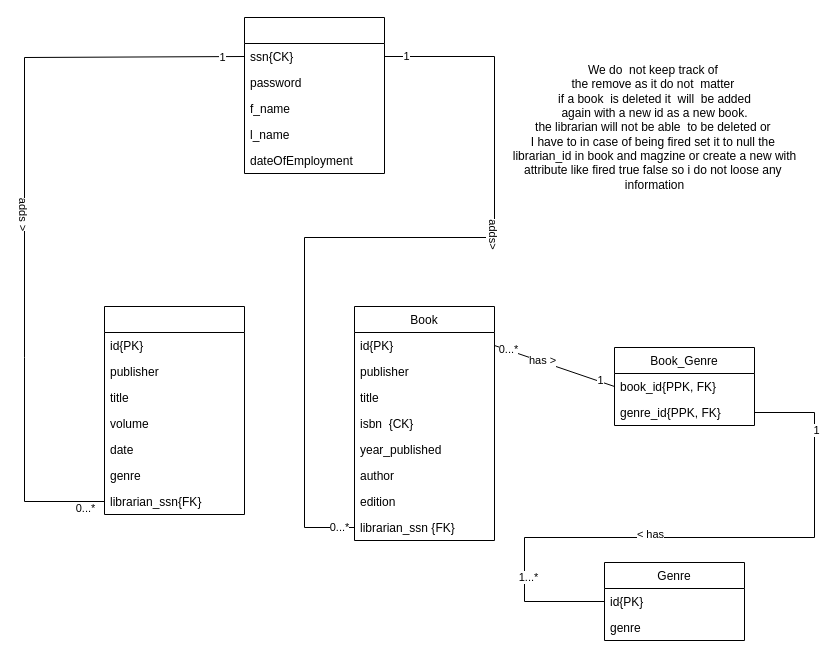
Image size: 836x661. Some labels were removed from this diagram. The box of each missing label's shape, as (x1, y1, x2, y2) in pixels:
Librarian: (244, 16, 384, 174)
Magazine: (104, 306, 244, 514)
